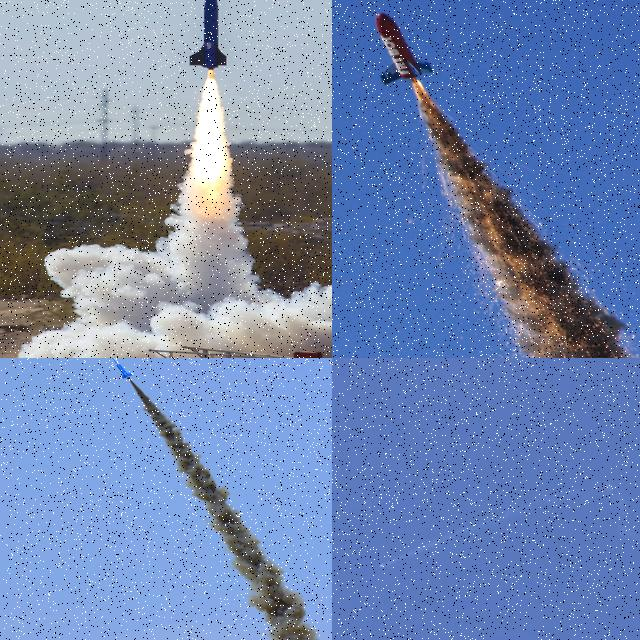Rocket: (374, 12, 436, 86), (188, 0, 229, 70), (110, 358, 135, 380), (378, 564, 382, 568)
